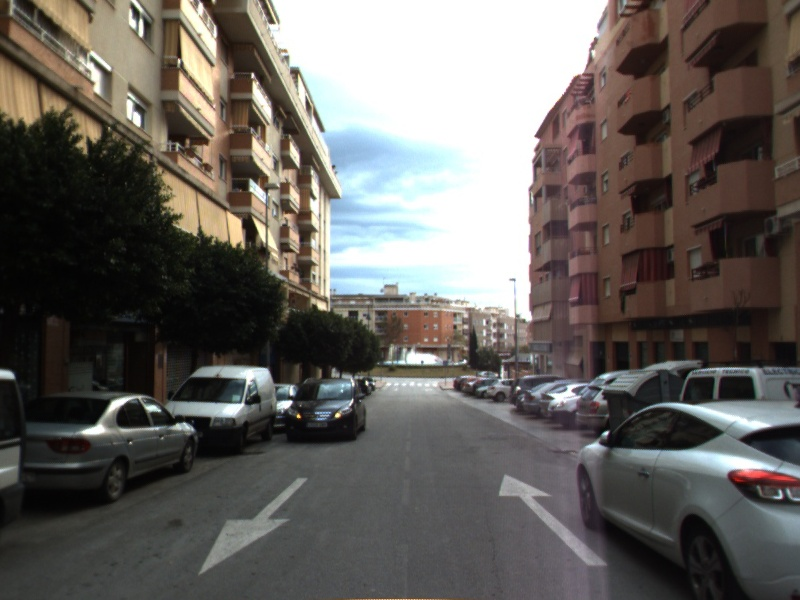STRAIGHT: (497, 471, 609, 568)
